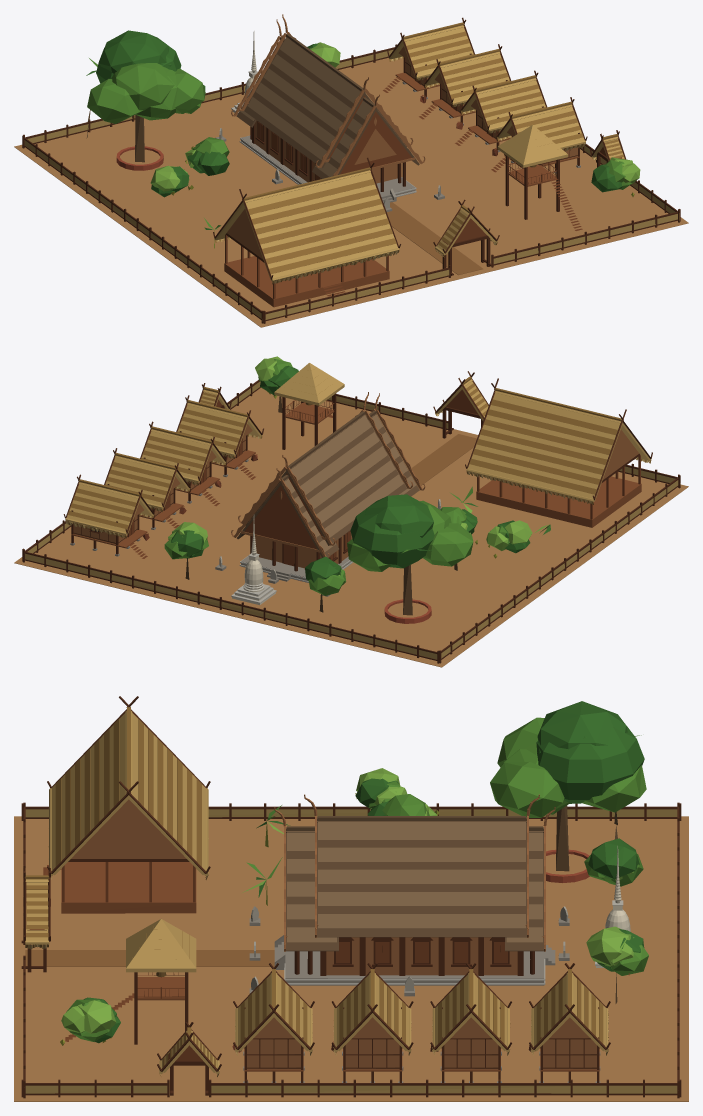
The model's file is temple_2.glb.
3 renders of one model, top to bottom at view 1: azimuth 30°, elevation 25°; view 2: azimuth 150°, elevation 25°; view 3: azimuth 270°, elevation 25°, orthographic. The views are drawn at different scales.
Parts seen in each view (by area): view 1: body; view 2: body; view 3: body.
Part boxes in pixels (x1,y1,x2,y2): body: (14, 14, 688, 327); body: (14, 356, 688, 667); body: (14, 696, 688, 1101).
Size of the model in its own units: 47.9 by 12.95 by 47.9.
